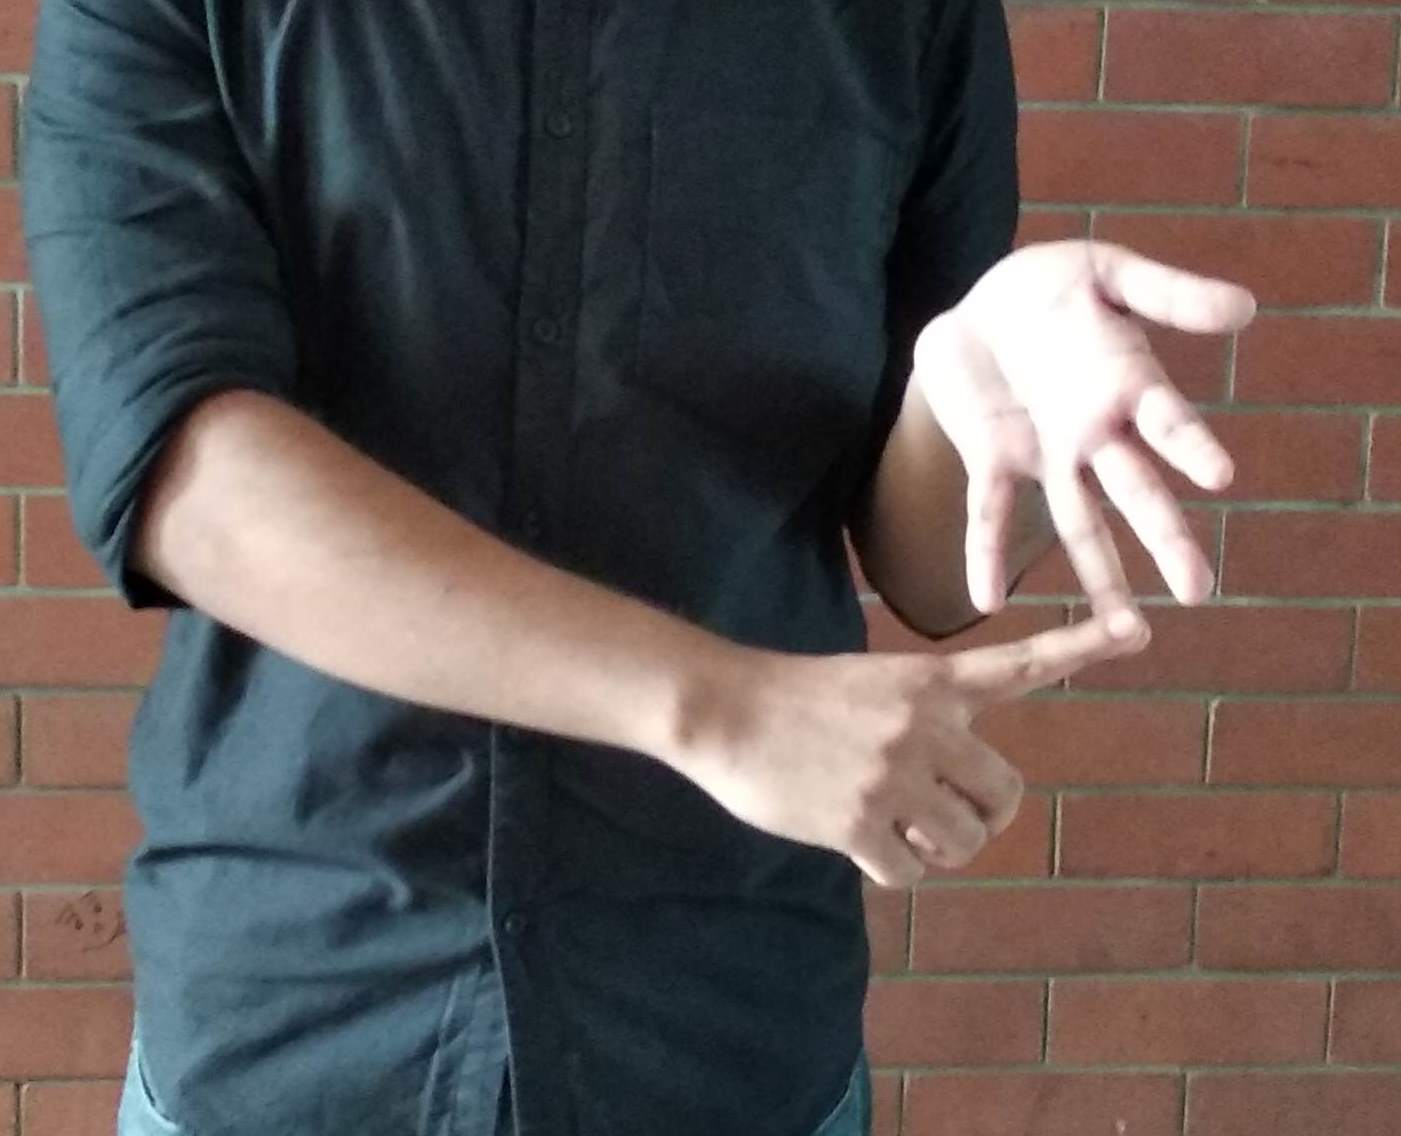e: (841, 231, 1241, 926)
